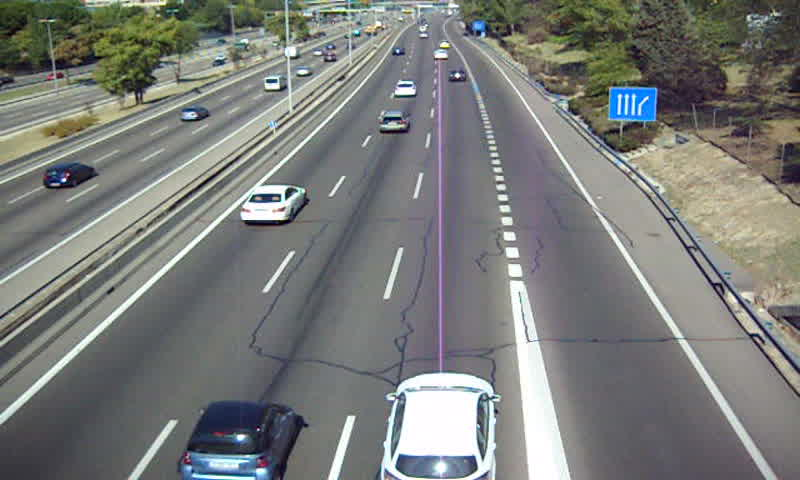car: (383, 373, 497, 480), (179, 402, 296, 480), (238, 184, 308, 223), (378, 111, 410, 135), (396, 80, 418, 98), (448, 68, 468, 82)
